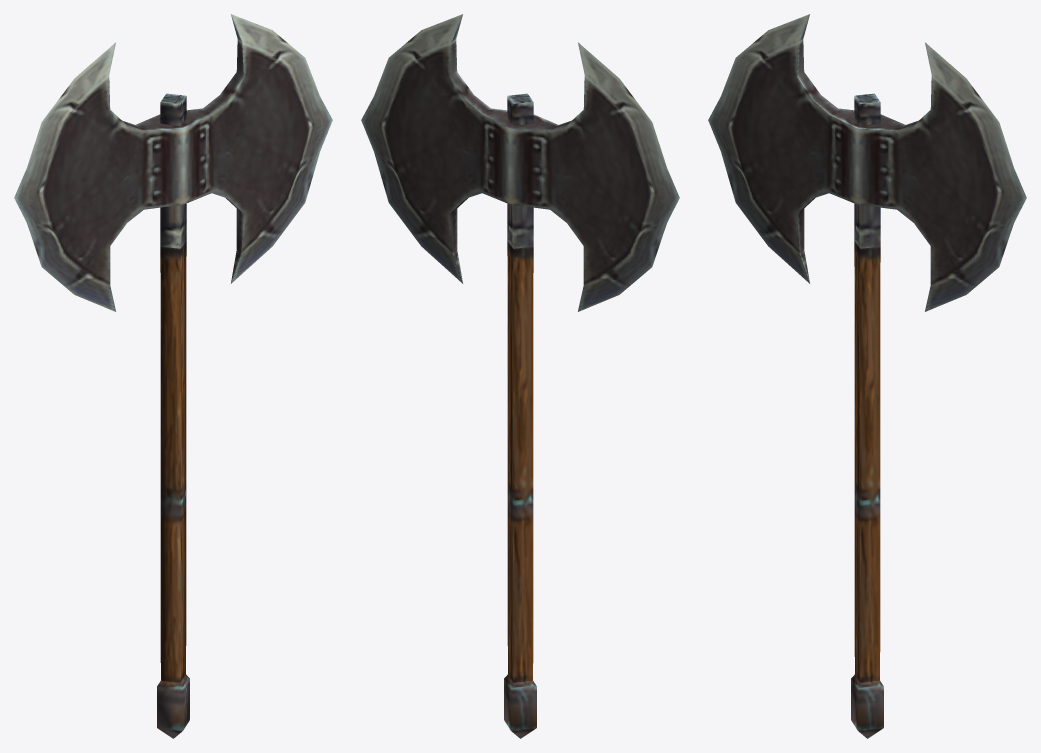
The model's file is TH_Axe02.FBX.
3 renders of one model, left to right at view 1: azimuth 30°, elevation 25°; view 2: azimuth 150°, elevation 25°; view 3: azimuth 330°, elevation 25°, orthographic.
Parts seen in each view (by area): view 1: TH_Axe02; view 2: TH_Axe02; view 3: TH_Axe02.
Boxes of the visible parts, left/top/right/bottom form: TH_Axe02: left=14, top=14, right=332, bottom=738; TH_Axe02: left=361, top=14, right=679, bottom=738; TH_Axe02: left=708, top=14, right=1026, bottom=738.
Size of the model in its own units: 51.58 by 110 by 5.82.
